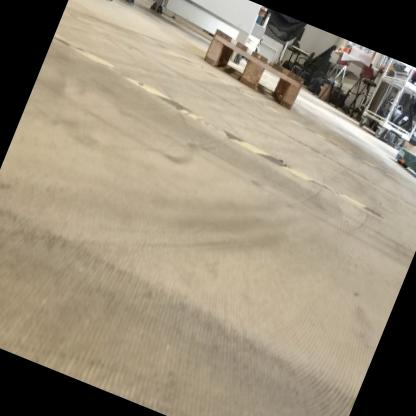BoxFace: (198, 23, 307, 115)
